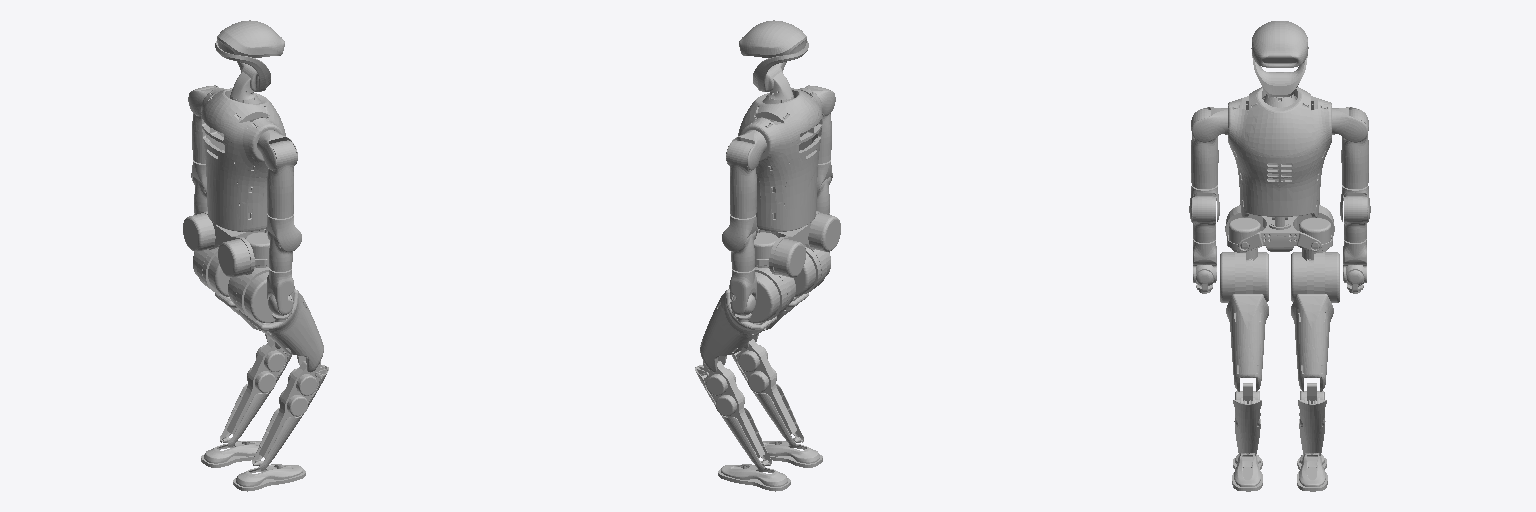
--- Render facts (derived) ---
3 views of the same robot in one strip: view 1: azimuth 30°, elevation 25°; view 2: azimuth 150°, elevation 25°; view 3: azimuth 270°, elevation 25° (orthographic).
Model l3-4_29dof_0612_neck_fixed with 52 links and 51 joints (29 revolute, 22 fixed), rooted at pelvis, posed all joints at 0.
Links seen in each view (by area): view 1: torso_base_link, right_hip_pitch_link, neck_pitch_link, right_knee_link, left_knee_link, base_link, right_shoulder_roll_link, right_ankle_roll_link, left_ankle_roll_link, right_elbow_yaw_link, right_arm_yaw_link, left_hip_yaw_link (+5 smaller); view 2: torso_base_link, left_hip_pitch_link, neck_pitch_link, left_knee_link, right_knee_link, base_link, left_shoulder_roll_link, left_ankle_roll_link, right_ankle_roll_link, left_elbow_yaw_link, left_arm_yaw_link, right_hip_yaw_link (+5 smaller); view 3: torso_base_link, right_hip_pitch_link, left_hip_pitch_link, neck_pitch_link, base_link, left_knee_link, right_knee_link, left_shoulder_roll_link, right_shoulder_roll_link, left_elbow_pitch_link, right_elbow_pitch_link, left_ankle_roll_link (+9 smaller).
Boxes of the visible links, x1,y1,x2,y2 form: torso_base_link: (201, 88, 285, 231); right_hip_pitch_link: (236, 267, 323, 372); neck_pitch_link: (215, 20, 284, 91); right_knee_link: (252, 361, 328, 470); left_knee_link: (220, 339, 291, 446); base_link: (183, 211, 265, 277); right_shoulder_roll_link: (267, 140, 296, 218); right_ankle_roll_link: (233, 464, 305, 491); left_ankle_roll_link: (201, 441, 260, 467); right_elbow_yaw_link: (267, 268, 294, 314); right_arm_yaw_link: (266, 214, 301, 251); left_hip_yaw_link: (202, 245, 229, 296); torso_base_link: (738, 88, 822, 231); left_hip_pitch_link: (700, 267, 787, 372); neck_pitch_link: (739, 20, 808, 91); left_knee_link: (695, 361, 771, 470); right_knee_link: (732, 339, 803, 446); base_link: (758, 211, 840, 277); left_shoulder_roll_link: (727, 140, 756, 218); left_ankle_roll_link: (718, 464, 790, 491); right_ankle_roll_link: (763, 441, 822, 467); left_elbow_yaw_link: (729, 268, 756, 314); left_arm_yaw_link: (722, 214, 757, 251); right_hip_yaw_link: (794, 245, 821, 296); torso_base_link: (1228, 87, 1331, 217); right_hip_pitch_link: (1220, 252, 1268, 391); left_hip_pitch_link: (1291, 252, 1339, 391); neck_pitch_link: (1251, 21, 1308, 96); base_link: (1225, 205, 1334, 251); left_knee_link: (1298, 383, 1326, 455); right_knee_link: (1233, 383, 1261, 455); left_shoulder_roll_link: (1341, 109, 1368, 188); right_shoulder_roll_link: (1191, 109, 1218, 188); left_elbow_pitch_link: (1344, 196, 1366, 242); right_elbow_pitch_link: (1193, 196, 1215, 242); left_ankle_roll_link: (1297, 453, 1327, 491).
Bounding box of the posed robot: 0.3903 × 0.59 × 1.61 m (x, y, z).
48 mesh visuals loaded from 49 distinct referenced files (48 binary STL); not drawn: 1 (reference not matched to a file when rendering).

URDF robot description (l3-4_29dof_0612_neck_fixed):
<?xml version="1.0" encoding="utf-8"?>

<!-- This URDF was automatically created by SolidWorks to URDF Exporter! Originally created by Stephen Brawner ([email redacted]) 
     Commit Version: 1.6.0-4-g7f85cfe  Build Version: 1.6.7995.38578
     For more information, please see http://wiki.ros.org/sw_urdf_exporter -->
<robot
  name="l3-4_29dof_0612_neck_fixed">
  <mujoco>
        <compiler 
        meshdir="meshes/" 
        balanceinertia="true" 
        discardvisual="false" />
  </mujoco>

  <!-- <link name="world"></link>
  <joint name="floating_base_joint" type="floating">
    <parent link="world"/>
    <child link="pelvis"/>
  </joint>  -->


 <link name="pelvis">
    <inertial>
      <origin xyz="0 0 0" rpy="0 0 0" />
      <mass value="0.01" />
      <inertia ixx="0.00001" ixy="-0.00001" ixz="-0.00001" iyy="0.00001" iyz="0.00001" izz="0.00001" />
    </inertial>
    <visual>
      <origin xyz="0 0 0" rpy="0 0 0" />
      <geometry>
        <box size="0.01 0.01 0.01"/>
      </geometry>
      <material name="">
        <color rgba="0.75294 0.75294 0.75294 1" />
      </material>
    </visual>

    <collision>
      <origin xyz="-0.105 0.115 -0.079" rpy="0 1.57 0"/>
      <geometry>
        <cylinder radius="0.06" length="0.05"/>
      </geometry>
    </collision>


    <collision>
      <origin xyz="-0.105 -0.115 -0.079" rpy="0 1.57 0"/>
      <geometry>
        <cylinder radius="0.06" length="0.05"/>
      </geometry>
    </collision>

    <!-- <collision>
      <origin
        xyz="0.05 0. -0.06"
        rpy="0 0 0"/>
      <geometry>
        <box size="0.02 0.14 0.04"/>
      </geometry>
    </collision> -->

    <collision>
      <origin
        xyz="0.07 0. -0.06"
        rpy="0 0 0"/>
      <!-- <geometry>
        <box size="0.02 0.20 0.04"/>
      </geometry> -->
      <geometry>
        <box size="0.01 0.26 0.04"/>
      </geometry>
    </collision>
  </link>

  <link
    name="base_link">
    <inertial>
      <origin
        xyz="-0.12443 4.6517E-05 -0.0072396"
        rpy="0 0 0" />
      <mass
        value="4.6837" />
      <inertia
        ixx="0.0662"
        ixy="0"
        ixz="-0.0006"
        iyy="0.0139"
        iyz="0"
        izz="0.071" />
    </inertial>
    <visual>
      <origin
        xyz="0 0 0"
        rpy="0 0 0" />
      <geometry>
        <mesh
          filename="meshes/base_link.STL" />
      </geometry>
      <material
        name="">
        <color
          rgba="0.75294 0.75294 0.75294 1" />
      </material>
    </visual>
    <!-- <collision>
      <origin
        xyz="0 0 0"
        rpy="0 0 0" />
      <geometry>
        <mesh
          filename="meshes/base_link.STL" />
      </geometry>
    </collision> -->
  </link>

  <joint name="pelvis_to_base_link" type="fixed">
    <origin xyz="0.04724 0 -0.0707" rpy="0 0 0" />
    <parent link="pelvis"/>
    <child link="base_link"/>
  </joint> 

 <!--left leg-->
  <link
    name="left_hip_roll_link">
    <inertial>
      <origin
        xyz="-0.00064601 2.7e-05 0.00565143"
        rpy="0 0 0" />
      <mass
        value="1.73" />
      <inertia
        ixx="0.0025037"
        ixy="0"
        ixz="0"
        iyy="0.00256083"
        iyz="0"
        izz="0.000029228131" />
    </inertial>
    <visual>
      <origin
        xyz="0 0 0"
        rpy="0 0 0" />
      <geometry>
        <mesh
          filename="meshes/left_hip_roll_link.STL" />
      </geometry>
      <material
        name="">
        <color
          rgba="0.75294 0.75294 0.75294 1" />
      </material>
    </visual>
    <collision>
      <origin
        xyz="0 0 0"
        rpy="0 0 0" />
      <geometry>
        <mesh
          filename="meshes/left_hip_roll_link.STL" />
      </geometry>
    </collision>
  </link>
  <joint
    name="left_hip_roll_joint"
    type="revolute">
    <origin
      xyz="-0.04724 0.115 -0.0083"
      rpy="0 0 0" />
    <parent
      link="base_link" />
    <child
      link="left_hip_roll_link" />
    <axis
      xyz="1 0 0" />
    <limit
      lower="-0.17"
      upper="1.21"
      effort="255"
      velocity="7.28" />
  </joint>
  <link
    name="left_hip_yaw_link">
    <inertial>
      <origin
        xyz="-0.000331 -0.037613 -0.139711"
        rpy="0 0 0" />
      <mass
        value="4.12" />
      <inertia
        ixx="0.01102885"
        ixy="-0.0001"
        ixz="-3.948E-07"
        iyy="0.01659953"
        iyz="-0.0007"
        izz="0.00922664" />
    </inertial>
    <visual>
      <origin
        xyz="0 0 0"
        rpy="0 0 0" />
      <geometry>
        <mesh
          filename="meshes/left_hip_yaw_link.STL" />
      </geometry>
      <material
        name="">
        <color
          rgba="0.75294 0.75294 0.75294 1" />
      </material>
    </visual>
    <!-- <collision>
      <origin
        xyz="0 0 0"
        rpy="0 0 0" />
      <geometry>
        <mesh
          filename="meshes/left_hip_yaw_link.STL" />
      </geometry>
    </collision> -->
    <collision>
      <origin xyz="0.0 0. -0.144" rpy="1.57 0 0"/>
      <geometry>
        <cylinder radius="0.09" length="0.16"/>
      </geometry>
    </collision>
  </link>
  <joint
    name="left_hip_yaw_joint"
    type="revolute">
    <origin
      xyz="0 0 0"
      rpy="0 0 0" />
    <parent
      link="left_hip_roll_link" />
    <child
      link="left_hip_yaw_link" />
    <axis
      xyz="0 0 1" />
    <limit
      lower="-0.52"
      upper="1.03"
      effort="100"
      velocity="13.26" />
  </joint>
  <link
    name="left_hip_pitch_link">
    <inertial>
      <origin
        xyz="0.00124255 0.03682619 -0.04354149"
        rpy="0 0 0" />
      <mass
        value="5.28" />
      <inertia
        ixx="0.06033474"
        ixy="0.0005"
        ixz="0.0032"
        iyy="0.06489403"
        iyz="-0.0083"
        izz="0.01283269" />
    </inertial>
    <visual>
      <origin
        xyz="0 0 0"
        rpy="0 0 0" />
      <geometry>
        <mesh
          filename="meshes/left_hip_pitch_link.STL" />
      </geometry>
      <material
        name="">
        <color
          rgba="0.75294 0.75294 0.75294 1" />
      </material>
    </visual>
    <!-- <collision>
      <origin
        xyz="0 0 0"
        rpy="0 0 0" />
      <geometry>
        <mesh
          filename="meshes/left_hip_pitch_link.STL" />
      </geometry>
    </collision> -->
    <collision>
      <origin
        xyz="0.02 0. -0.20"
        rpy="0 0 0"/>
      <geometry>
        <box size="0.1 0.06 0.15"/>
      </geometry>
    </collision>
  </link>
  <joint
    name="left_hip_pitch_joint"
    type="revolute">
    <origin
      xyz="0 0 -0.144"
      rpy="0 -0.5236 0" />
    <parent
      link="left_hip_yaw_link" />
    <child
      link="left_hip_pitch_link" />
    <axis
      xyz="0 1 0" />
    <!-- <limit
      lower="-1.48"
      upper="2.27"
      effort="350.0"
      velocity="24.94" /> -->
    <limit
      lower="-1.48"
      upper="2.25"
      effort="350.0"
      velocity="20.0" />


  </joint>
  <link
    name="left_knee_link">
    <inertial>
      <origin
        xyz="0.01253496 0.00011441 -0.11698312"
        rpy="0 0 0" />
      <mass
        value="2.41" />
      <inertia
        ixx="0.02084403"
        ixy="-3.7298E-08"
        ixz="-0.0015"
        iyy="0.0210412"
        iyz="-0.0003"
        izz="0.00243826" />
    </inertial>
    <visual>
      <origin
        xyz="0 0 0"
        rpy="0 0 0" />
      <geometry>
        <mesh
          filename="meshes/left_knee_link.STL" />
      </geometry>
      <material
        name="">
        <color
          rgba="0.75294 0.75294 0.75294 1" />
      </material>
    </visual>
    <collision>
      <origin
        xyz="0 0 0"
        rpy="0 0 0" />
      <geometry>
        <mesh
          filename="meshes/left_knee_link.STL" />
      </geometry>
    </collision>
  </link>
  <joint
    name="left_knee_joint"
    type="revolute">
    <origin
      xyz="0 -0.01 -0.36"
      rpy="0 1.0472 0" />
    <parent
      link="left_hip_pitch_link" />
    <child
      link="left_knee_link" />
    <axis
      xyz="0 1 0" />
    <!-- <limit
      lower="-1.05"
      upper="1.05"
      effort="350.0"
      velocity="24.94" /> -->
    <limit
      lower="-1.0"
      upper="1.05"
      effort="350.0"
      velocity="20.0" />
  </joint>
  <link
    name="left_ankle_pitch_link">
    <inertial>
      <origin
        xyz="-0.00156278 0.0 4.876e-05"
        rpy="0 0 0" />
      <mass
        value="0.08" />
      <inertia
        ixx="6.4137e-06"
        ixy="6.4247E-12"
        ixz="5.1426E-09"
        iyy="5.5064e-06"
        iyz="8.537E-13"
        izz="4.8112e-06" />
    </inertial>
    <visual>
      <origin
        xyz="0 0 0"
        rpy="0 0 0" />
      <geometry>
        <mesh
          filename="meshes/left_ankle_pitch_link.STL" />
      </geometry>
      <material
        name="">
        <color
          rgba="0.75294 0.75294 0.75294 1" />
      </material>
    </visual>
    <!-- <collision>
      <origin
        xyz="0 0 0"
        rpy="0 0 0" />
      <geometry>
        <mesh
          filename="meshes/left_ankle_pitch_link.STL" />
      </geometry>
    </collision> -->
  </link>
  <joint
    name="left_ankle_pitch_joint"
    type="revolute">
    <origin
      xyz="0 0 -0.36"
      rpy="0 -0.5236 0" />
    <parent
      link="left_knee_link" />
    <child
      link="left_ankle_pitch_link" />
    <axis
      xyz="0 1 0" />
    <limit
      lower="-0.66"
      upper="1.22"
      effort="50.0"
      velocity="13.65" />
  </joint>
  <link
    name="left_ankle_roll_link">
    <inertial>
      <origin
        xyz="0.025775 0.0 -0.0447431"
        rpy="0 0 0" />
      <mass
        value="0.6" />
      <inertia
        ixx="0.00422483"
        ixy="7.2942E-08"
        ixz="0.0002"
        iyy="0.004"
        iyz="3.08E-09"
        izz="0.000575171" />
    </inertial>
    <visual>
      <origin
        xyz="0 0 0"
        rpy="0 0 0" />
      <geometry>
        <mesh
          filename="meshes/left_ankle_roll_link.STL" />
      </geometry>
      <material
        name="">
        <color
          rgba="0.75294 0.75294 0.75294 1" />
      </material>
    </visual>
    <!-- <collision>
      <origin
        xyz="0 0 0"
        rpy="0 0 0" />
      <geometry>
        <mesh
          filename="meshes/left_ankle_roll_link.STL" />
      </geometry>
    </collision> -->
    <collision>
      <origin xyz="-0.06 0.035 -0.064" rpy="0 0 0"/>
      <geometry>
        <sphere radius="0.005"/>
      </geometry>
    </collision>
    <collision>
      <origin xyz="-0.06 -0.035 -0.064" rpy="0 0 0"/>
      <geometry>
        <sphere radius="0.005"/>
      </geometry>
    </collision>
    <collision>
      <origin xyz="0.13 0.040 -0.064" rpy="0 0 0"/>
      <geometry>
        <sphere radius="0.005"/>
      </geometry>
    </collision>
    <collision>
      <origin xyz="0.13 -0.040 -0.064" rpy="0 0 0"/>
      <geometry>
        <sphere radius="0.005"/>
      </geometry>
    </collision>
  </link>
  <joint
    name="left_ankle_roll_joint"
    type="revolute">
    <origin
      xyz="0 0 0"
      rpy="0 0 0" />
    <parent
      link="left_ankle_pitch_link" />
    <child
      link="left_ankle_roll_link" />
    <axis
      xyz="1 0 0" />
    <limit
      lower="-0.31"
      upper="0.31"
      effort="50.0"
      velocity="13.65" />
  </joint>
  <link
    name="left_foot_ee_link">
    <inertial>
      <origin
        xyz="-2.6368E-16 0 0.0025"
        rpy="0 0 0" />
      <mass
        value="1.375E-08" />
      <inertia
        ixx="5.7292E-14"
        ixy="-4.5517E-30"
        ixz="-4.4864E-28"
        iyy="5.7292E-14"
        iyz="-3.7706E-29"
        izz="5.7292E-14" />
    </inertial>
    <visual>
      <origin
        xyz="0 0 0"
        rpy="0 0 0" />
      <geometry>
        <mesh
          filename="meshes/left_foot_ee_link.STL" />
      </geometry>
      <material
        name="">
        <color
          rgba="1 0.54902 0 1" />
      </material>
    </visual>
    <!-- <collision>
      <origin
        xyz="0 0 0"
        rpy="0 0 0" />
      <geometry>
        <mesh
          filename="meshes/left_foot_ee_link.STL" />
      </geometry>
    </collision> -->
  </link>
  <joint
    name="left_foot_ee_joint"
    type="fixed">
    <origin
      xyz="0 0 -0.0679999999999948"
      rpy="0 0 0" />
    <parent
      link="left_ankle_roll_link" />
    <child
      link="left_foot_ee_link" />
    <axis
      xyz="0 0 1" />
    <limit
      lower="0"
      upper="0"
      effort="0"
      velocity="0" />
  </joint>


<!--right leg-->
  <link
    name="right_hip_roll_link">
    <inertial>
      <origin
        xyz="-0.00164028 8.729e-05 0.00500482"
        rpy="0 0 0" />
      <mass
        value="1.73" />
      <inertia
        ixx="0.00310048"
        ixy="0"
        ixz="0"
        iyy="0.0024"
        iyz="0"
        izz="0.00229952" />
    </inertial>
    <visual>
      <origin
        xyz="0 0 0"
        rpy="0 0 0" />
      <geometry>
        <mesh
          filename="meshes/right_hip_roll_link.STL" />
      </geometry>
      <material
        name="">
        <color
          rgba="0.75294 0.75294 0.75294 1" />
      </material>
    </visual>
    <collision>
      <origin
        xyz="0 0 0"
        rpy="0 0 0" />
      <geometry>
        <mesh
          filename="meshes/right_hip_roll_link.STL" />
      </geometry>
    </collision>
  </link>
  <joint
    name="right_hip_roll_joint"
    type="revolute">
    <origin
      xyz="-0.04724 -0.115 -0.0083"
      rpy="0 0 0" />
    <parent
      link="base_link" />
    <child
      link="right_hip_roll_link" />
    <axis
      xyz="1 0 0" />
    <limit
      lower="-1.21"
      upper="0.17"
      effort="255"
      velocity="7.28" />
  </joint>
  <link
    name="right_hip_yaw_link">
    <inertial>
      <origin
        xyz="0.00033106 0.0376129 -0.139711"
        rpy="0 0 0" />
      <mass
        value="4.12" />
      <inertia
        ixx="0.0163666"
        ixy="-0.0001"
        ixz="3.948E-07"
        iyy="0.0107982"
        iyz="0.0007"
        izz="0.00873522" />
    </inertial>
    <visual>
      <origin
        xyz="0 0 0"
        rpy="0 0 0" />
      <geometry>
        <mesh
          filename="meshes/right_hip_yaw_link.STL" />
      </geometry>
      <material
        name="">
        <color
          rgba="0.75294 0.75294 0.75294 1" />
      </material>
    </visual>
    <!-- <collision>
      <origin
        xyz="0 0 0"
        rpy="0 0 0" />
      <geometry>
        <mesh
          filename="meshes/right_hip_yaw_link.STL" />
      </geometry>
    </collision> -->
    <collision>
      <origin xyz="0.0 0. -0.144" rpy="1.57 0 0"/>
      <geometry>
        <cylinder radius="0.09" length="0.16"/>
      </geometry>
    </collision>
  </link>
  <joint
    name="right_hip_yaw_joint"
    type="revolute">
    <origin
      xyz="0 0 0"
      rpy="0 0 0" />
    <parent
      link="right_hip_roll_link" />
    <child
      link="right_hip_yaw_link" />
    <axis
      xyz="0 0 1" />
    <limit
      lower="-1.03"
      upper="0.52"
      effort="100"
      velocity="13.26" />
  </joint>
  <link
    name="right_hip_pitch_link">
    <inertial>
      <origin
        xyz="0.00124255 -0.03682619 -0.04354149"
        rpy="0 0 0" />
      <mass
        value="5.28" />
      <inertia
        ixx="0.06033474"
        ixy="-0.0006"
        ixz="0.0041"
        iyy="0.06489403"
        iyz="0.0081"
        izz="0.01283269" />
    </inertial>
    <visual>
      <origin
        xyz="0 0 0"
        rpy="0 0 0" />
      <geometry>
        <mesh
          filename="meshes/right_hip_pitch_link.STL" />
      </geometry>
      <material
        name="">
        <color
          rgba="0.75294 0.75294 0.75294 1" />
      </material>
    </visual>
    <!-- <collision>
      <origin
        xyz="0 0 0"
        rpy="0 0 0" />
      <geometry>
        <mesh
          filename="meshes/right_hip_pitch_link.STL" />
      </geometry>
    </collision> -->

    <collision>
      <origin
        xyz="0.02 0. -0.20"
        rpy="0 0 0"/>
      <geometry>
        <box size="0.1 0.06 0.15"/>
      </geometry>
    </collision>


  </link>
  <joint
    name="right_hip_pitch_joint"
    type="revolute">
    <origin
      xyz="0 0 -0.144"
      rpy="0 -0.5236 0" />
    <parent
      link="right_hip_yaw_link" />
    <child
      link="right_hip_pitch_link" />
    <axis
      xyz="0 1 0" />
    <!-- <limit
      lower="-1.48"
      upper="2.27"
      effort="350.0"
      velocity="24.94" /> -->
    <limit
      lower="-1.48"
      upper="2.25"
      effort="350.0"
      velocity="20.0" />
  </joint>
  <link
    name="right_knee_link">
    <inertial>
      <origin
        xyz="0.01253496 -0.00011441 -0.11698312"
        rpy="0 0 0" />
      <mass
        value="2.41" />
      <inertia
        ixx="0.02084403"
        ixy="0"
        ixz="-0.0015"
        iyy="0.0210412"
        iyz="0.0003"
        izz="0.00243826" />
    </inertial>
    <visual>
      <origin
        xyz="0 0 0"
        rpy="0 0 0" />
      <geometry>
        <mesh
          filename="meshes/right_knee_link.STL" />
      </geometry>
      <material
        name="">
        <color
          rgba="0.75294 0.75294 0.75294 1" />
      </material>
    </visual>
    <collision>
      <origin
        xyz="0 0 0"
        rpy="0 0 0" />
      <geometry>
        <mesh
          filename="meshes/right_knee_link.STL" />
      </geometry>
    </collision>
  </link>
  <joint
    name="right_knee_joint"
    type="revolute">
    <origin
      xyz="0 0.01 -0.36"
      rpy="0 1.0472 0" />
    <parent
      link="right_hip_pitch_link" />
    <child
      link="right_knee_link" />
    <axis
      xyz="0 1 0" />
    <!-- <limit
      lower="-1.05"
      upper="1.05"
      effort="350"
      velocity="24.94" /> -->
    <limit
      lower="-1.0"
      upper="1.05"
      effort="350"
      velocity="20.0" />
  </joint>
  <link
    name="right_ankle_pitch_link">
    <inertial>
      <origin
        xyz="-0.00156278 0.0 4.876e-05"
        rpy="0 0 0" />
      <mass
        value="0.08" />
      <inertia
        ixx="6.4137e-06"
        ixy="6.4247E-12"
        ixz="5.1426E-09"
        iyy="5.5064e-06"
        iyz="8.537E-13"
        izz="4.8112e-06" />
    </inertial>
    <visual>
      <origin
        xyz="0 0 0"
        rpy="0 0 0" />
      <geometry>
        <mesh
          filename="meshes/right_ankle_pitch_link.STL" />
      </geometry>
      <material
        name="">
        <color
          rgba="0.75294 0.75294 0.75294 1" />
      </material>
    </visual>
    <!-- <collision>
      <origin
        xyz="0 0 0"
        rpy="0 0 0" />
      <geometry>
        <mesh
          filename="meshes/right_ankle_pitch_link.STL" />
      </geometry>
    </collision> -->
  </link>
  <joint
    name="right_ankle_pitch_joint"
    type="revolute">
    <origin
      xyz="0 0 -0.36"
      rpy="0 -0.5236 0" />
    <parent
      link="right_knee_link" />
    <child
      link="right_ankle_pitch_link" />
    <axis
      xyz="0 1 0" />
    <limit
      lower="-0.66"
      upper="1.22"
      effort="50.0"
      velocity="13.65" />
  </joint>
  <link
    name="right_ankle_roll_link">
    <inertial>
      <origin
        xyz="0.025775 0.0 -0.0447431"
        rpy="0 0 0" />
      <mass
        value="0.6" />
      <inertia
        ixx="0.00422483"
        ixy="7.3006E-08"
        ixz="-3.7284E-05"
        iyy="0.004"
        iyz="3.0727E-09"
        izz="0.000575171" />
    </inertial>
    <visual>
      <origin
        xyz="0 0 0"
        rpy="0 0 0" />
      <geometry>
        <mesh
          filename="meshes/right_ankle_roll_link.STL" />
      </geometry>
      <material
        name="">
        <color
          rgba="0.75294 0.75294 0.75294 1" />
      </material>
    </visual>
    <!-- <collision>
      <origin
        xyz="0 0 0"
        rpy="0 0 0" />
      <geometry>
        <mesh
          filename="meshes/right_ankle_roll_link.STL" />
      </geometry>
    </collision> -->
    <collision>
      <origin xyz="-0.06 0.035 -0.064" rpy="0 0 0"/>
      <geometry>
        <sphere radius="0.005"/>
      </geometry>
    </collision>
    <collision>
      <origin xyz="-0.06 -0.035 -0.064" rpy="0 0 0"/>
      <geometry>
        <sphere radius="0.005"/>
      </geometry>
    </collision>
    <collision>
      <origin xyz="0.13 0.040 -0.064" rpy="0 0 0"/>
      <geometry>
        <sphere radius="0.005"/>
      </geometry>
    </collision>
    <collision>
      <origin xyz="0.13 -0.040 -0.064" rpy="0 0 0"/>
      <geometry>
        <sphere radius="0.005"/>
      </geometry>
    </collision> 
  </link>
  <joint
    name="right_ankle_roll_joint"
    type="revolute">
    <origin
      xyz="0 0 0"
      rpy="0 0 0" />
    <parent
      link="right_ankle_pitch_link" />
    <child
      link="right_ankle_roll_link" />
    <axis
      xyz="1 0 0" />
    <limit
      lower="-0.31"
      upper="0.31"
      effort="50.0"
      velocity="13.65" />
  </joint>
  <link
    name="right_foot_ee_link">
    <inertial>
      <origin
        xyz="-2.7756E-16 0 0.0025"
        rpy="0 0 0" />
      <mass
        value="1.375E-08" />
      <inertia
        ixx="5.7292E-14"
        ixy="-4.4099E-31"
        ixz="-4.4858E-28"
        iyy="5.7292E-14"
        iyz="-2.8029E-29"
        izz="5.7292E-14" />
    </inertial>
    <visual>
      <origin
        xyz="0 0 0"
        rpy="0 0 0" />
      <geometry>
        <mesh
          filename="meshes/right_foot_ee_link.STL" />
      </geometry>
      <material
        name="">
        <color
          rgba="1 0.54902 0 1" />
      </material>
    </visual>
    <!-- <collision>
      <origin
        xyz="0 0 0"
        rpy="0 0 0" />
      <geometry>
        <mesh
          filename="meshes/right_foot_ee_link.STL" />
      </geometry>
    </collision> -->
  </link>
  <joint
    name="right_foot_ee_joint"
    type="fixed">
    <origin
      xyz="0 0 -0.068"
      rpy="0 0 0" />
    <parent
      link="right_ankle_roll_link" />
    <child
      link="right_foot_ee_link" />
    <axis
      xyz="0 0 0" />
  </joint>

<!--   waist part    -->
  <link
    name="waist_flange_link">
    <inertial>
      <origin
        xyz="0 -3.4487E-18 0.0025"
        rpy="0 0 0" />
      <mass
        value="1.375E-08" />
      <inertia
        ixx="5.7292E-14"
        ixy="2.6168E-30"
        ixz="-3.9998E-31"
        iyy="5.7292E-14"
        iyz="-1.2292E-30"
        izz="5.7292E-14" />
    </inertial>
    <visual>
      <origin
        xyz="0 0 0"
        rpy="0 0 0" />
      <geometry>
        <mesh
          filename="meshes/waist_flange_link.STL" />
      </geometry>
      <material
        name="">
        <color
          rgba="1 0.54902 0 1" />
      </material>
    </visual>
    <!-- <collision>
      <origin
        xyz="0 0 0"
        rpy="0 0 0" />
      <geometry>
        <mesh
          filename="meshes/waist_flange_link.STL" />
      </geometry>
    </collision> -->
  </link>
  <joint
    name="waist_flange_joint"
    type="fixed">
    <origin
      xyz="-0.04724 0 0.0367"
      rpy="0 0 0" />
    <parent
      link="base_link" />
    <child
      link="waist_flange_link" />
    <axis
      xyz="0 0 0" />
  </joint>

  <joint
    name="waist_base_joint"
    type="fixed">
    <origin
      xyz="0 0 0"
      rpy="0 0 0" />
    <parent
      link="waist_flange_link" />
    <child
      link="waist_base_link" />
    <axis
      xyz="0 0 1" />
    <limit
      lower="0"
      upper="0"
      effort="0"
      velocity="0" />
  </joint>
<link
    name="waist_base_link">
    <inertial>
      <origin
        xyz="-0.00090253 -3.8886E-05 -0.022326"
        rpy="0 0 0" />
      <mass
        value="1.0597" />
      <inertia
        ixx="0.0011"
        ixy="7.3313E-07"
        ixz="6.9671E-07"
        iyy="0.0011"
        iyz="1.5872E-06"
        izz="0.0013" />
    </inertial>
    <visual>
      <origin
        xyz="0 0 0"
        rpy="0 0 0" />
      <geometry>
        <mesh
          filename="meshes/waist_base_link.STL" />
      </geometry>
      <material
        name="">
        <color
          rgba="0.75294 0.75294 0.75294 1" />
      </material>
    </visual>
    <!-- <collision>
      <origin
        xyz="0 0 0"
        rpy="0 0 0" />
      <geometry>
        <mesh
          filename="meshes/waist_base_link.STL" />
      </geometry>
    </collision> -->
  </link>
  <link
    name="waist_yaw_link">
    <inertial>
      <origin
        xyz="0.0090574 2.5517E-09 -0.018735"
        rpy="0 0 0" />
      <mass
        value="0.20427" />
      <inertia
        ixx="0.0001"
        ixy="9.2093E-11"
        ixz="5.1666E-07"
        iyy="0.0001"
        iyz="-7.1818E-11"
        izz="0.0001" />
    </inertial>
    <visual>
      <origin
        xyz="0 0 0"
        rpy="0 0 0" />
      <geometry>
        <mesh
          filename="meshes/waist_yaw_link.STL" />
      </geometry>
      <material
        name="">
        <color
          rgba="0.75294 0.75294 0.75294 1" />
      </material>
    </visual>
    <!-- <collision>
      <origin
        xyz="0 0 0"
        rpy="0 0 0" />
      <geometry>
        <mesh
          filename="meshes/waist_yaw_link.STL" />
      </geometry>
    </collision> -->
  </link>
  <joint
    name="waist_yaw_joint"
    type="revolute">
    <origin
      xyz="0 0 0.034"
      rpy="0 0 0" />
    <parent
      link="waist_base_link" />
    <child
      link="waist_yaw_link" />
    <axis
      xyz="0 0 1" />
    <limit
      lower="-1.57"
      upper="1.57"
      effort="110"
      velocity="4.19" />
  </joint>
  <link
    name="waist_roll_link">
    <inertial>
      <origin
        xyz="-3.1889E-09 -3.1609E-09 -4.8745E-05"
        rpy="0 0 0" />
      <mass
        value="0.083945" />
      <inertia
        ixx="6.4218E-06"
        ixy="7.6098E-14"
        ixz="-1.8377E-12"
        iyy="6.968E-06"
        iyz="7.7458E-13"
        izz="1.1249E-05" />
    </inertial>
    <visual>
      <origin
        xyz="0 0 0"
        rpy="0 0 0" />
      <geometry>
        <mesh
          filename="meshes/waist_roll_link.STL" />
      </geometry>
      <material
        name="">
        <color
          rgba="0.75294 0.75294 0.75294 1" />
      </material>
    </visual>
    <!-- <collision>
      <origin
        xyz="0 0 0"
        rpy="0 0 0" />
      <geometry>
        <mesh
          filename="meshes/waist_roll_link.STL" />
      </geometry>
    </collision> -->
  </link>
  <joint
    name="waist_roll_joint"
    type="revolute">
    <origin
      xyz="0 0 0"
      rpy="0 0 0" />
    <parent
      link="waist_yaw_link" />
    <child
      link="waist_roll_link" />
    <axis
      xyz="1 0 0" />
    <limit
      lower="-0.26"
      upper="0.26"
      effort="110"
      velocity="4.19" />
  </joint>


 <link name="torso_link">
    <inertial>
      <origin xyz="0 0 0" rpy="0 0 0" />
      <mass value="0.01" />
      <inertia ixx="0.00001" ixy="-0.00001" ixz="-0.00001" iyy="0.00001" iyz="0.00001" izz="0.00001" />
    </inertial>
    <visual>
      <origin xyz="0 0 0" rpy="0 0 0" />
      <geometry>
        <box size="0.01 0.01 0.01"/>
      </geometry>
      <material name="">
        <color rgba="0.75294 0.75294 0.75294 1" />
      </material>
    </visual>
    <!-- <collision>
      <origin
        xyz="0.0 0. 0.215"
        rpy="0 0 0" />
      <geometry>
        <box size="0.2 0.26 0.34"/>
      </geometry>
    </collision> -->
  </link>

  <joint
    name="waist_pitch_joint"
    type="revolute">
    <origin
      xyz="0 0 0"
      rpy="0 0 0" />
    <parent
      link="waist_roll_link" />
    <child
      link="torso_link" />
    <axis
      xyz="0 1 0" />
    <limit
      lower="-0.09"
      upper="1.22"
      effort="110"
      velocity="4.19" />
  </joint>

  <link
    name="waist_pitch_link">
    <inertial>
      <origin
        xyz="-0.0006119 7.6707E-09 0.049479"
        rpy="0 0 0" />
      <mass
        value="2.42" />
      <inertia
        ixx="0.0094"
        ixy="-2.2462E-06"
        ixz="0.0001"
        iyy="0.0023"
        iyz="-1.2998E-06"
        izz="0.0094" />
    </inertial>
    <visual>
      <origin
        xyz="0 0 0"
        rpy="0 0 0" />
      <geometry>
        <mesh
          filename="meshes/waist_pitch_link.STL" />
      </geometry>
      <material
        name="">
        <color
          rgba="0.75294 0.75294 0.75294 1" />
      </material>
    </visual>
    <!-- <collision>
      <origin
        xyz="0 0 0"
        rpy="0 0 0" />
      <geometry>
        <mesh
          filename="meshes/waist_pitch_link.STL" />
      </geometry>
    </collision> -->
  </link>

  <joint
    name="torso_fixed_joint"
    type="fixed">
    <origin
      xyz="0 0 0.0"
      rpy="0 0 0" />
    <parent
      link="torso_link" />
    <child
      link="waist_pitch_link" />
    <axis
      xyz="0 0 0" />
  </joint>



  <link
    name="torso_flange_link">
    <inertial>
      <origin
        xyz="1.687E-05 -3.5059E-18 0.0025"
        rpy="0 0 0" />
      <mass
        value="1.375E-08" />
      <inertia
        ixx="5.7292E-14"
        ixy="-3.9075E-30"
        ixz="5.6717E-30"
        iyy="5.7292E-14"
        iyz="7.282E-30"
        izz="5.7292E-14" />
    </inertial>
    <visual>
      <origin
        xyz="0 0 0"
        rpy="0 0 0" />
      <geometry>
        <mesh
          filename="meshes/torso_flange_link.STL" />
      </geometry>
      <material
        name="">
        <color
          rgba="1 0.54902 0 1" />
      </material>
    </visual>
    <!-- <collision>
      <origin
        xyz="0 0 0"
        rpy="0 0 0" />
      <geometry>
        <mesh
          filename="meshes/torso_flange_link.STL" />
      </geometry>
    </collision> -->
  </link>
  <joint
    name="torso_flange_joint"
    type="fixed">
    <origin
      xyz="0 0 0.095"
      rpy="0 0 0" />
    <parent
      link="waist_pitch_link" />
    <child
      link="torso_flange_link" />
    <axis
      xyz="0 0 0" />
  </joint>

<!--   torso part    --> 

  <joint
    name="torso_base_joint"
    type="fixed">
    <origin
      xyz="0 0 0"
      rpy="0 0 0" />
    <parent
      link="torso_flange_link" />
    <child
      link="torso_base_link" />
    <axis
      xyz="0 0 1" />
    <limit
      lower="0"
      upper="0"
      effort="0"
      velocity="0" />
  </joint>
  <link
    name="torso_base_link">
    <inertial>
      <origin
        xyz="-0.0081721 -0.00032449 0.13822"
        rpy="0 0 0" />
      <mass
        value="10.42" />
      <inertia
        ixx="0.1209"
        ixy="-0.0001"
        ixz="0.0102"
        iyy="0.1048"
        iyz="0.0004"
        izz="0.0665" />
    </inertial>
    <visual>
      <origin
        xyz="0 0 0"
        rpy="0 0 0" />
      <geometry>
        <mesh
          filename="meshes/torso_base_link.STL" />
      </geometry>
      <material
        name="">
        <color
          rgba="0.75294 0.75294 0.75294 1" />
      </material>
    </visual>
    <collision>
      <origin
        xyz="0 0 0"
        rpy="0 0 0" />
      <geometry>
        <mesh
          filename="meshes/torso_base_link.STL" />
      </geometry>
    </collision>
  </link>
  <link
    name="neck_flange_link">
    <inertial>
      <origin
        xyz="-8.6736E-19 -3.5017E-18 0.0025"
        rpy="0 0 0" />
      <mass
        value="1.375E-08" />
      <inertia
        ixx="5.7292E-14"
        ixy="-2.8571E-30"
        ixz="5.6547E-30"
        iyy="5.7292E-14"
        iyz="-5.801E-31"
        izz="5.7292E-14" />
    </inertial>
    <visual>
      <origin
        xyz="0 0 0"
        rpy="0 0 0" />
      <geometry>
        <mesh
          filename="meshes/neck_flange_link.STL" />
      </geometry>
      <material
        name="">
        <color
          rgba="1 0.54902 0 1" />
      </material>
    </visual>
    <!-- <collision>
      <origin
        xyz="0 0 0"
        rpy="0 0 0" />
      <geometry>
        <mesh
          filename="meshes/neck_flange_link.STL" />
      </geometry>
    </collision> -->
  </link>
  <joint
    name="neck_flange_joint"
    type="fixed">
    <origin
      xyz="0 0 0.303"
      rpy="0 0 0" />
    <parent
      link="torso_base_link" />
    <child
      link="neck_flange_link" />
    <axis
      xyz="0 0 0" />
  </joint>
  <link
    name="left_arm_flange_link">
    <inertial>
      <origin
        xyz="-5.152E-18 -2.7756E-17 0.0025"
        rpy="0 0 0" />
      <mass
        value="1.375E-08" />
      <inertia
        ixx="5.7292E-14"
        ixy="3.113E-30"
        ixz="-7.9572E-30"
        iyy="5.7292E-14"
        iyz="-4.7132E-29"
        izz="5.7292E-14" />
    </inertial>
    <visual>
      <origin
        xyz="0 0 0"
        rpy="0 0 0" />
      <geometry>
        <mesh
          filename="meshes/left_arm_flange_link.STL" />
      </geometry>
      <material
        name="">
        <color
          rgba="1 0.54902 0 1" />
      </material>
    </visual>
    <!-- <collision>
      <origin
        xyz="0 0 0"
        rpy="0 0 0" />
      <geometry>
        <mesh
          filename="meshes/left_arm_flange_link.STL" />
      </geometry>
    </collision> -->
  </link>
  <joint
    name="left_arm_flange_joint"
    type="fixed">
    <origin
      xyz="0 0.112 0.243"
      rpy="0 0 0" />
    <parent
      link="torso_base_link" />
    <child
      link="left_arm_flange_link" />
    <axis
      xyz="0 0 0" />
  </joint>
  <link
    name="right_arm_flange_link">
    <inertial>
      <origin
        xyz="-1.847E-18 -1.3878E-17 0.0025"
        rpy="0 0 0" />
      <mass
        value="1.375E-08" />
      <inertia
        ixx="5.7292E-14"
        ixy="-1.6617E-30"
        ixz="-4.4962E-30"
        iyy="5.7292E-14"
        iyz="-2.525E-30"
        izz="5.7292E-14" />
    </inertial>
    <visual>
      <origin
        xyz="0 0 0"
        rpy="0 0 0" />
      <geometry>
        <mesh
          filename="meshes/right_arm_flange_link.STL" />
      </geometry>
      <material
        name="">
        <color
          rgba="1 0.54902 0 1" />
      </material>
    </visual>
    <!-- <collision>
      <origin
        xyz="0 0 0"
        rpy="0 0 0" />
      <geometry>
        <mesh
          filename="meshes/right_arm_flange_link.STL" />
      </geometry>
    </collision> -->
  </link>
  <joint
    name="right_arm_flange_joint"
    type="fixed">
    <origin
      xyz="0 -0.112 0.243"
      rpy="0 0 0" />
    <parent
      link="torso_base_link" />
    <child
      link="right_arm_flange_link" />
    <axis
      xyz="0 0 0" />
  </joint>

  <!-- IMU -->
  <link name="chest_in_torso"></link>
  <joint name="chest_in_torso_joint" type="fixed">
    <origin xyz="-0.03959 -0.00224 0.14792" rpy="0 0 0"/>
    <parent link="torso_base_link"/>
    <child link="chest_in_torso"/>
  </joint>

  <!--   left_arm part    -->
  <joint
    name="left_arm_base_joint"
    type="fixed">
    <origin
      xyz="0 0 0"
      rpy="0 0 0" />
    <parent
      link="left_arm_flange_link" />
    <child
      link="left_arm_base_link" />
    <axis
      xyz="0 0 1" />
    <limit
      lower="0"
      upper="0"
      effort="0"
      velocity="0" />
  </joint>
   <link
    name="left_arm_base_link">
    <inertial>
      <origin
        xyz="4.1581E-05 0.023631 3.5535E-05"
        rpy="0 0 0" />
      <mass
        value="0.99112" />
      <inertia
        ixx="0.000802"
        ixy="1E-06"
        ixz="-1E-06"
        iyy="0.000861"
        iyz="-3E-06"
        izz="0.000807" />
    </inertial>
    <visual>
      <origin
        xyz="0 0 0"
        rpy="0 0 0" />
      <geometry>
        <mesh
          filename="meshes/left_arm_base_link.STL" />
      </geometry>
      <material
        name="">
        <color
          rgba="0.75294 0.75294 0.75294 1" />
      </material>
    </visual>
    <!-- <collision>
      <origin
        xyz="0 0 0"
        rpy="0 0 0" />
      <geometry>
        <mesh
          filename="meshes/left_arm_base_link.STL" />
      </geometry>
    </collision> -->
  </link>
  <link
    name="left_shoulder_pitch_link">
    <inertial>
      <origin
        xyz="0.00013365 0.10261 -0.0035426"
        rpy="0 0 0" />
      <mass
        value="0.46431" />
      <inertia
        ixx="0.000868"
        ixy="7.2517E-07"
        ixz="-7.5289E-07"
        iyy="0.000868"
        iyz="0.000137"
        izz="0.001185" />
    </inertial>
    <visual>
      <origin
        xyz="0 0 0"
        rpy="0 0 0" />
      <geometry>
        <mesh
          filename="meshes/left_shoulder_pitch_link.STL" />
      </geometry>
      <material
        name="">
        <color
          rgba="0.75294 0.75294 0.75294 1" />
      </material>
    </visual>
    <collision>
      <origin
        xyz="0 0 0"
        rpy="0 0 0" />
      <geometry>
        <mesh
          filename="meshes/left_shoulder_pitch_link.STL" />
      </geometry>
    </collision>
  </link>
  <joint
    name="left_shoulder_pitch_joint"
    type="revolute">
    <origin
      xyz="0 0 0"
      rpy="0 0 0" />
    <parent
      link="left_arm_base_link" />
    <child
      link="left_shoulder_pitch_link" />
    <axis
      xyz="0 1 0" />
    <limit
      lower="-2.79"
      upper="2.79"
      effort="95"
      velocity="4.19" />
  </joint>
  <link
    name="left_shoulder_roll_link">
    <inertial>
      <origin
        xyz="-0.0032462 4.0571E-06 -0.091652"
        rpy="0 0 0" />
      <mass
        value="2.1944" />
      <inertia
        ixx="0.019872"
        ixy="-7.0549E-07"
        ixz="0.000639"
        iyy="0.019903"
        iyz="7E-06"
        izz="0.00221" />
    </inertial>
    <visual>
      <origin
        xyz="0 0 0"
        rpy="0 0 0" />
      <geometry>
        <mesh
          filename="meshes/left_shoulder_roll_link.STL" />
      </geometry>
      <material
        name="">
        <color
          rgba="0.75294 0.75294 0.75294 1" />
      </material>
    </visual>
    <!-- <collision>
      <origin
        xyz="0 0 0"
        rpy="0 0 0" />
      <geometry>
        <mesh
          filename="meshes/left_shoulder_roll_link.STL" />
      </geometry>
    </collision> -->
    <collision>
      <origin xyz="0.0 0.0 -0.13" rpy="0 0 0"/>
      <geometry>
        <cylinder radius="0.045" length="0.13"/>
      </geometry>
    </collision>

  </link>
  <joint
    name="left_shoulder_roll_joint"
    type="revolute">
    <origin
      xyz="0 0.133 -0.016"
      rpy="0 0 0" />
    <parent
      link="left_shoulder_pitch_link" />
    <child
      link="left_shoulder_roll_link" />
    <axis
      xyz="1 0 0" />
    <limit
      lower="-0.56"
      upper="2.53"
      effort="95"
      velocity="4.19" />
  </joint>
  <link
    name="left_arm_yaw_link">
    <inertial>
      <origin
        xyz="0.003519 0.00031494 -0.26353"
        rpy="0 0 0" />
      <mass
        value="0.46223" />
      <inertia
        ixx="0.00118"
        ixy="-1E-06"
        ixz="0.000136"
        iyy="0.000868"
        iyz="-7.2691E-07"
        izz="0.000873" />
    </inertial>
    <visual>
      <origin
        xyz="0 0 0"
        rpy="0 0 0" />
      <geometry>
        <mesh
          filename="meshes/left_arm_yaw_link.STL" />
      </geometry>
      <material
        name="">
        <color
          rgba="0.75294 0.75294 0.75294 1" />
      </material>
    </visual>
    <!-- <collision>
      <origin
        xyz="0 0 0"
        rpy="0 0 0" />
      <geometry>
        <mesh
          filename="meshes/left_arm_yaw_link.STL" />
      </geometry>
    </collision> -->
  </link>
  <joint
    name="left_arm_yaw_joint"
    type="revolute">
    <origin
      xyz="0 0 0"
      rpy="0 0 0" />
    <parent
      link="left_shoulder_roll_link" />
    <child
      link="left_arm_yaw_link" />
    <axis
      xyz="0 0 1" />
    <limit
      lower="-4.36"
      upper="1.22"
      effort="95"
      velocity="4.19" />
  </joint>
  <link
    name="left_elbow_pitch_link">
    <inertial>
      <origin
        xyz="-0.0056997 -0.0045023 -0.03171"
        rpy="0 0 0" />
      <mass
        value="1.6034" />
      <inertia
        ixx="0.004377"
        ixy="3.6E-05"
        ixz="-0.00054"
        iyy="0.004463"
        iyz="0.000215"
        izz="0.001464" />
    </inertial>
    <visual>
      <origin
        xyz="0 0 0"
        rpy="0 0 0" />
      <geometry>
        <mesh
          filename="meshes/left_elbow_pitch_link.STL" />
      </geometry>
      <material
        name="">
        <color
          rgba="0.75294 0.75294 0.75294 1" />
      </material>
    </visual>
    <collision>
      <origin
        xyz="0 0 0"
        rpy="0 0 0" />
      <geometry>
        <mesh
          filename="meshes/left_elbow_pitch_link.STL" />
      </geometry>
    </collision>
  </link>
  <joint
    name="left_elbow_pitch_joint"
    type="revolute">
    <origin
      xyz="0.016 0 -0.294"
      rpy="0 0 0" />
    <parent
      link="left_arm_yaw_link" />
    <child
      link="left_elbow_pitch_link" />
    <axis
      xyz="0 1 0" />
    <limit
      lower="-2.36"
      upper="0.7"
      effort="95"
      velocity="4.19" />
  </joint>
  <link
    name="left_elbow_yaw_link">
    <inertial>
      <origin
        xyz="-0.0006503 -0.0023824 0.067809"
        rpy="0 0 0" />
      <mass
        value="0.91938" />
      <inertia
        ixx="0.001459"
        ixy="-1.3E-05"
        ixz="-3E-05"
        iyy="0.001214"
        iyz="8E-06"
        izz="0.00085" />
    </inertial>
    <visual>
      <origin
        xyz="0 0 0"
        rpy="0 0 0" />
      <geometry>
        <mesh
          filename="meshes/left_elbow_yaw_link.STL" />
      </geometry>
      <material
        name="">
        <color
          rgba="0.75294 0.75294 0.75294 1" />
      </material>
    </visual>
    <collision>
      <origin
        xyz="0 0 0"
        rpy="0 0 0" />
      <geometry>
        <mesh
          filename="meshes/left_elbow_yaw_link.STL" />
      </geometry>
    </collision>
  </link>
  <joint
    name="left_elbow_yaw_joint"
    type="revolute">
    <origin
      xyz="-0.016 0 -0.239"
      rpy="0 0 0" />
    <parent
      link="left_elbow_pitch_link" />
    <child
      link="left_elbow_yaw_link" />
    <axis
      xyz="0 0 1" />
    <limit
      lower="-2.79"
      upper="2.79"
      effort="35"
      velocity="4.19" />
  </joint>
  <link
    name="left_wrist_pitch_link">
    <inertial>
      <origin
        xyz="0.0064749 -0.00014717 0.00023213"
        rpy="0 0 0" />
      <mass
        value="0.59056" />
      <inertia
        ixx="0.00033"
        ixy="-2E-06"
        ixz="3E-06"
        iyy="0.000318"
        iyz="-2E-06"
        izz="0.000334" />
    </inertial>
    <visual>
      <origin
        xyz="0 0 0"
        rpy="0 0 0" />
      <geometry>
        <mesh
          filename="meshes/left_wrist_pitch_link.STL" />
      </geometry>
      <material
        name="">
        <color
          rgba="0.75294 0.75294 0.75294 1" />
      </material>
    </visual>
    <!-- <collision>
      <origin
        xyz="0 0 0"
        rpy="0 0 0" />
      <geometry>
        <mesh
          filename="meshes/left_wrist_pitch_link.STL" />
      </geometry>
    </collision> -->
  </link>
  <joint
    name="left_wrist_pitch_joint"
    type="revolute">
    <origin
      xyz="0 0 0"
      rpy="0 0 0" />
    <parent
      link="left_elbow_yaw_link" />
    <child
      link="left_wrist_pitch_link" />
    <axis
      xyz="0 1 0" />
    <limit
      lower="-0.79"
      upper="0.79"
      effort="35"
      velocity="4.19" />
  </joint>
  <link
    name="left_wrist_roll_link">
    <inertial>
      <origin
        xyz="0.015728 8.3393E-10 -0.030005"
        rpy="0 0 0" />
      <mass
        value="0.091311" />
      <inertia
        ixx="6.9E-05"
        ixy="9.3969E-12"
        ixz="-3.1E-05"
        iyy="8.9E-05"
        iyz="3.3842E-13"
        izz="5.2E-05" />
    </inertial>
    <visual>
      <origin
        xyz="0 0 0"
        rpy="0 0 0" />
      <geometry>
        <mesh
          filename="meshes/left_wrist_roll_link.STL" />
      </geometry>
      <material
        name="">
        <color
          rgba="0.75294 0.75294 0.75294 1" />
      </material>
    </visual>
    <!-- <collision>
      <origin
        xyz="0 0 0"
        rpy="0 0 0" />
      <geometry>
        <mesh
          filename="meshes/left_wrist_roll_link.STL" />
      </geometry>
    </collision> -->
    <collision>
      <origin xyz="0.0 0.0 -0.062" rpy="0 0.0 0"/>
      <geometry>
        <cylinder radius="0.025" length="0.015"/>
      </geometry>
    </collision>



  </link>
  <joint
    name="left_wrist_roll_joint"
    type="revolute">
    <origin
      xyz="0 0 0"
      rpy="0 0 0" />
    <parent
      link="left_wrist_pitch_link" />
    <child
      link="left_wrist_roll_link" />
    <axis
      xyz="1 0 0" />
    <limit
      lower="-1.57"
      upper="1.57"
      effort="35"
      velocity="4.19" />
  </joint>
  <link
    name="left_hand_flange_link">
    <inertial>
      <origin
        xyz="0 0 0.0025"
        rpy="0 0 0" />
      <mass
        value="0.000000001" />
      <inertia
        ixx="0.00000000001"
        ixy="0.0000000000"
        ixz="0.0000000000"
        iyy="0.00000000001"
        iyz="0.0000000000"
        izz="0.00000000001" />
    </inertial>
    <visual>
      <origin
        xyz="0 0 0"
        rpy="0 0 0" />
      <geometry>
        <mesh
          filename="meshes/left_hand_flange_link.STL" />
      </geometry>
      <material
        name="">
        <color
          rgba="1 0.54902 0 1" />
      </material>
    </visual>
    <!-- <collision>
      <origin
        xyz="0 0 0"
        rpy="0 0 0" />
      <geometry>
        <mesh
          filename="meshes/left_hand_flange_link.STL" />
      </geometry>
    </collision> -->
  </link>
  <joint
    name="left_hand_flange_joint"
    type="fixed">
    <origin
      xyz="0 0 -0.051"
      rpy="3.1415926 0 0" />
    <parent
      link="left_wrist_roll_link" />
    <child
      link="left_hand_flange_link" />
    <axis
      xyz="0 0 0" />
  </joint>


  <!--   head part    -->
  <joint
    name="neck_base_joint"
    type="fixed">
    <origin
      xyz="0 0 0"
      rpy="0 0 0" />
    <parent
      link="neck_flange_link" />
    <child
      link="neck_base_link" />
    <axis
      xyz="0 0 1" />
    <limit
      lower="0"
      upper="0"
      effort="0"
      velocity="0" />
  </joint>
 <link
    name="neck_base_link">
    <inertial>
      <origin
        xyz="0.00044058 -3.1316E-05 0.020437"
        rpy="0 0 0" />
      <mass
        value="0.54879" />
      <inertia
        ixx="0.000336"
        ixy="1E-06"
        ixz="-1E-06"
        iyy="0.000311"
        iyz="2.377E-07"
        izz="0.000379" />
    </inertial>
    <visual>
      <origin
        xyz="0 0 0"
        rpy="0 0 0" />
      <geometry>
        <mesh
          filename="meshes/neck_base_link.STL" />
      </geometry>
      <material
        name="">
        <color
          rgba="0.75294 0.75294 0.75294 1" />
      </material>
    </visual>
    <!-- <collision>
      <origin
        xyz="0 0 0"
        rpy="0 0 0" />
      <geometry>
        <mesh
          filename="meshes/neck_base_link.STL" />
      </geometry>
    </collision> -->
  </link>
  <link
    name="neck_yaw_link">
    <inertial>
      <origin
        xyz="0.033363 0.00038788 0.085731"
        rpy="0 0 0" />
      <mass
        value="0.57738" />
      <inertia
        ixx="0.000363"
        ixy="1E-06"
        ixz="-9E-05"
        iyy="0.000478"
        iyz="1E-06"
        izz="0.000427" />
    </inertial>
    <visual>
      <origin
        xyz="0 0 0"
        rpy="0 0 0" />
      <geometry>
        <mesh
          filename="meshes/neck_yaw_link.STL" />
      </geometry>
      <material
        name="">
        <color
          rgba="0.75294 0.75294 0.75294 1" />
      </material>
    </visual>
    <!-- <collision>
      <origin
        xyz="0 0 0"
        rpy="0 0 0" />
      <geometry>
        <mesh
          filename="meshes/neck_yaw_link.STL" />
      </geometry>
    </collision> -->
  </link>
  <joint
    name="neck_yaw_joint"
    type="fixed">
    <origin
      xyz="0 0 0"
      rpy="0 0 0" />
    <parent
      link="neck_base_link" />
    <child
      link="neck_yaw_link" />
    <axis
      xyz="0 0 1" />
    <limit
      lower="-1.05"
      upper="1.05"
      effort="35"
      velocity="4.19" />
  </joint>
  <link
    name="neck_pitch_link">
    <inertial>
      <origin
        xyz="-0.018182 0.00091372 0.11159"
        rpy="0 0 0" />
      <mass
        value="1.4643" />
      <inertia
        ixx="0.006914"
        ixy="-2.8E-05"
        ixz="0.001054"
        iyy="0.007955"
        iyz="0.000133"
        izz="0.005899" />
    </inertial>
    <visual>
      <origin
        xyz="0 0 0"
        rpy="0 0 0" />
      <geometry>
        <mesh
          filename="meshes/neck_pitch_link.STL" />
      </geometry>
      <material
        name="">
        <color
          rgba="0.75294 0.75294 0.75294 1" />
      </material>
    </visual>
    <collision>
      <origin
        xyz="0 0 0"
        rpy="0 0 0" />
      <geometry>
        <mesh
          filename="meshes/neck_pitch_link.STL" />
      </geometry>
    </collision>
  </link>
  <joint
    name="neck_pitch_joint"
    type="fixed">
    <origin
      xyz="0.04 0 0.0905"
      rpy="0 0 0" />
    <parent
      link="neck_yaw_link" />
    <child
      link="neck_pitch_link" />
    <axis
      xyz="0 1 0" />
    <limit
      lower="-0.17"
      upper="0.48"
      effort="35"
      velocity="4.19" />
  </joint>
  <link
    name="lidar_link">
    <inertial>
      <origin
        xyz="3.4694E-18 -6.9344E-18 0.0025"
        rpy="0 0 0" />
      <mass
        value="1.375E-08" />
      <inertia
        ixx="5.7292E-14"
        ixy="9.2152E-31"
        ixz="2.068E-29"
        iyy="5.7292E-14"
        iyz="5.8797E-30"
        izz="5.7292E-14" />
    </inertial>
    <visual>
      <origin
        xyz="0 0 0"
        rpy="0 0 0" />
      <geometry>
        <mesh
          filename="meshes/lidar_link.STL" />
      </geometry>
      <material
        name="">
        <color
          rgba="1 0.54902 0 1" />
      </material>
    </visual>
    <!-- <collision>
      <origin
        xyz="0 0 0"
        rpy="0 0 0" />
      <geometry>
        <mesh
          filename="meshes/lidar_link.STL" />
      </geometry>
    </collision> -->
  </link>
  <joint
    name="lidar_joint"
    type="fixed">
    <origin
      xyz="-0.014255 0 0.10675"
      rpy="0 0 0" />
    <parent
      link="neck_pitch_link" />
    <child
      link="lidar_link" />
    <axis
      xyz="0 0 0" />
  </joint>
  <link
    name="mic_link">
    <inertial>
      <origin
        xyz="6.9389E-18 -1.1928E-20 0.0025"
        rpy="0 0 0" />
      <mass
        value="1.375E-08" />
      <inertia
        ixx="5.7292E-14"
        ixy="8.366E-31"
        ixz="5.1463E-30"
        iyy="5.7292E-14"
        iyz="3.6879E-30"
        izz="5.7292E-14" />
    </inertial>
    <visual>
      <origin
        xyz="0 0 0"
        rpy="0 0 0" />
      <geometry>
        <mesh
          filename="meshes/mic_link.STL" />
      </geometry>
      <material
        name="">
        <color
          rgba="1 0.54902 0 1" />
      </material>
    </visual>
    <!-- <collision>
      <origin
        xyz="0 0 0"
        rpy="0 0 0" />
      <geometry>
        <mesh
          filename="meshes/mic_link.STL" />
      </geometry>
    </collision> -->
  </link>
  <joint
    name="mic_joint"
    type="fixed">
    <origin
      xyz="-0.014255 0 0.18884"
      rpy="0 0 0" />
    <parent
      link="neck_pitch_link" />
    <child
      link="mic_link" />
    <axis
      xyz="0 0 0" />
  </joint>
  <link
    name="stereo_link">
    <inertial>
      <origin
        xyz="1.3878E-17 -3.5421E-18 0.0025"
        rpy="0 0 0" />
      <mass
        value="1.375E-08" />
      <inertia
        ixx="5.7292E-14"
        ixy="-1.9198E-30"
        ixz="6.3109E-29"
        iyy="5.7292E-14"
        iyz="2.5778E-31"
        izz="5.7292E-14" />
    </inertial>
    <visual>
      <origin
        xyz="0 0 0"
        rpy="0 0 0" />
      <geometry>
        <mesh
          filename="meshes/stereo_link.STL" />
      </geometry>
      <material
        name="">
        <color
          rgba="1 0.54902 0 1" />
      </material>
    </visual>
    <!-- <collision>
      <origin
        xyz="0 0 0"
        rpy="0 0 0" />
      <geometry>
        <mesh
          filename="meshes/stereo_link.STL" />
      </geometry>
    </collision> -->
  </link>
  <joint
    name="stereo_joint"
    type="fixed">
    <origin
      xyz="0.059712 0 0.13282"
      rpy="0 0.5236 0" />
    <parent
      link="neck_pitch_link" />
    <child
      link="stereo_link" />
    <axis
      xyz="0 0 0" />
  </joint>









 
 <!--  right_arm part    -->
  <joint
    name="right_arm_base_joint"
    type="fixed">
    <origin
      xyz="0 0 0"
      rpy="0 0 0" />
    <parent
      link="right_arm_flange_link" />
    <child
      link="right_arm_base_link" />
    <axis
      xyz="0 0 1" />
    <limit
      lower="0"
      upper="0"
      effort="0"
      velocity="0" />
  </joint>
    <link
    name="right_arm_base_link">
    <inertial>
      <origin
        xyz="-4.1581E-05 -0.023631 3.5535E-05"
        rpy="0 0 0" />
      <mass
        value="0.99112" />
      <inertia
        ixx="0.000802"
        ixy="1E-06"
        ixz="1E-06"
        iyy="0.000861"
        iyz="3E-06"
        izz="0.000807" />
    </inertial>
    <visual>
      <origin
        xyz="0 0 0"
        rpy="0 0 0" />
      <geometry>
        <mesh
          filename="meshes/right_arm_base_link.STL" />
      </geometry>
      <material
        name="">
        <color
          rgba="0.75294 0.75294 0.75294 1" />
      </material>
    </visual>
    <!-- <collision>
      <origin
        xyz="0 0 0"
        rpy="0 0 0" />
      <geometry>
        <mesh
          filename="meshes/right_arm_base_link.STL" />
      </geometry>
    </collision> -->
  </link>
  <link
    name="right_shoulder_pitch_link">
    <inertial>
      <origin
        xyz="-0.00013365 -0.10261 -0.0035426"
        rpy="0 0 0" />
      <mass
        value="0.46431" />
      <inertia
        ixx="0.000868"
        ixy="7.2509E-07"
        ixz="7.5292E-07"
        iyy="0.000876"
        iyz="-0.000137"
        izz="0.001185" />
    </inertial>
    <visual>
      <origin
        xyz="0 0 0"
        rpy="0 0 0" />
      <geometry>
        <mesh
          filename="meshes/right_shoulder_pitch_link.STL" />
      </geometry>
      <material
        name="">
        <color
          rgba="0.75294 0.75294 0.75294 1" />
      </material>
    </visual>
    <collision>
      <origin
        xyz="0 0 0"
        rpy="0 0 0" />
      <geometry>
        <mesh
          filename="meshes/right_shoulder_pitch_link.STL" />
      </geometry>
    </collision>
  </link>
  <joint
    name="right_shoulder_pitch_joint"
    type="revolute">
    <origin
      xyz="0 0 0"
      rpy="0 0 0" />
    <parent
      link="right_arm_base_link" />
    <child
      link="right_shoulder_pitch_link" />
    <axis
      xyz="0 1 0" />
    <limit
      lower="-2.79"
      upper="2.79"
      effort="95"
      velocity="4.19" />
  </joint>
  <link
    name="right_shoulder_roll_link">
    <inertial>
      <origin
        xyz="0.0032462 -4.0571E-06 -0.091652"
        rpy="0 0 0" />
      <mass
        value="2.1944" />
      <inertia
        ixx="0.019872"
        ixy="-7.0549E-07"
        ixz="-0.000639"
        iyy="0.019903"
        iyz="-7E-06"
        izz="0.00221" />
    </inertial>
    <visual>
      <origin
        xyz="0 0 0"
        rpy="0 0 0" />
      <geometry>
        <mesh
          filename="meshes/right_shoulder_roll_link.STL" />
      </geometry>
      <material
        name="">
        <color
          rgba="0.75294 0.75294 0.75294 1" />
      </material>
    </visual>
    <!-- <collision>
      <origin
        xyz="0 0 0"
        rpy="0 0 0" />
      <geometry>
        <mesh
          filename="meshes/right_shoulder_roll_link.STL" />
      </geometry>
    </collision> -->
    <collision>
      <origin xyz="0.0 0.0 -0.13" rpy="0 0 0"/>
      <geometry>
        <cylinder radius="0.045" length="0.13"/>
      </geometry>
    </collision>
  </link>
  <joint
    name="right_shoulder_roll_joint"
    type="revolute">
    <origin
      xyz="0 -0.133 -0.016"
      rpy="0 0 0" />
    <parent
      link="right_shoulder_pitch_link" />
    <child
      link="right_shoulder_roll_link" />
    <axis
      xyz="1 0 0" />
    <limit
      lower="-2.53"
      upper="0.56"
      effort="95"
      velocity="4.19" />
  </joint>
  <link
    name="right_arm_yaw_link">
    <inertial>
      <origin
        xyz="0.003519 0.00031494 -0.26353"
        rpy="0 0 0" />
      <mass
        value="0.46223" />
      <inertia
        ixx="0.00118"
        ixy="-1E-06"
        ixz="0.000136"
        iyy="0.000868"
        iyz="-7.2693E-07"
        izz="0.000873" />
    </inertial>
    <visual>
      <origin
        xyz="0 0 0"
        rpy="0 0 0" />
      <geometry>
        <mesh
          filename="meshes/right_arm_yaw_link.STL" />
      </geometry>
      <material
        name="">
        <color
          rgba="0.75294 0.75294 0.75294 1" />
      </material>
    </visual>
    <!-- <collision>
      <origin
        xyz="0 0 0"
        rpy="0 0 0" />
      <geometry>
        <mesh
          filename="meshes/right_arm_yaw_link.STL" />
      </geometry>
    </collision> -->
  </link>
  <joint
    name="right_arm_yaw_joint"
    type="revolute">
    <origin
      xyz="0 0 0"
      rpy="0 0 0" />
    <parent
      link="right_shoulder_roll_link" />
    <child
      link="right_arm_yaw_link" />
    <axis
      xyz="0 0 1" />
    <limit
      lower="-1.22"
      upper="4.36"
      effort="95"
      velocity="4.19" />
  </joint>
  <link
    name="right_elbow_pitch_link">
    <inertial>
      <origin
        xyz="-0.0056997 -0.0045023 -0.03171"
        rpy="0 0 0" />
      <mass
        value="1.6034" />
      <inertia
        ixx="0.004377"
        ixy="3.6E-05"
        ixz="-0.00054"
        iyy="0.004463"
        iyz="0.000215"
        izz="0.001464" />
    </inertial>
    <visual>
      <origin
        xyz="0 0 0"
        rpy="0 0 0" />
      <geometry>
        <mesh
          filename="meshes/right_elbow_pitch_link.STL" />
      </geometry>
      <material
        name="">
        <color
          rgba="0.75294 0.75294 0.75294 1" />
      </material>
    </visual>
    <collision>
      <origin
        xyz="0 0 0"
        rpy="0 0 0" />
      <geometry>
        <mesh
          filename="meshes/right_elbow_pitch_link.STL" />
      </geometry>
    </collision>
  </link>
  <joint
    name="right_elbow_pitch_joint"
    type="revolute">
    <origin
      xyz="0.016 0 -0.294"
      rpy="0 0 0" />
    <parent
      link="right_arm_yaw_link" />
    <child
      link="right_elbow_pitch_link" />
    <axis
      xyz="0 1 0" />
    <limit
      lower="-2.36"
      upper="0.7"
      effort="95"
      velocity="4.19" />
  </joint>
  <link
    name="right_elbow_yaw_link">
    <inertial>
      <origin
        xyz="-0.0006503 -0.0023824 0.067809"
        rpy="0 0 0" />
      <mass
        value="0.91938" />
      <inertia
        ixx="0.001459"
        ixy="-1.3E-05"
        ixz="-3E-05"
        iyy="0.001214"
        iyz="8E-06"
        izz="0.00085" />
    </inertial>
    <visual>
      <origin
        xyz="0 0 0"
        rpy="0 0 0" />
      <geometry>
        <mesh
          filename="meshes/right_elbow_yaw_link.STL" />
      </geometry>
      <material
        name="">
        <color
          rgba="0.75294 0.75294 0.75294 1" />
      </material>
    </visual>
    <collision>
      <origin
        xyz="0 0 0"
        rpy="0 0 0" />
      <geometry>
        <mesh
          filename="meshes/right_elbow_yaw_link.STL" />
      </geometry>
    </collision>
  </link>
  <joint
    name="right_elbow_yaw_joint"
    type="revolute">
    <origin
      xyz="-0.016 0 -0.239"
      rpy="0 0 0" />
    <parent
      link="right_elbow_pitch_link" />
    <child
      link="right_elbow_yaw_link" />
    <axis
      xyz="0 0 1" />
    <limit
      lower="-2.79"
      upper="2.79"
      effort="35"
      velocity="4.19" />
  </joint>
  <link
    name="right_wrist_pitch_link">
    <inertial>
      <origin
        xyz="0.0064749 -0.00014717 0.00023213"
        rpy="0 0 0" />
      <mass
        value="0.59056" />
      <inertia
        ixx="0.00033"
        ixy="-2E-06"
        ixz="3E-06"
        iyy="0.000318"
        iyz="-2E-06"
        izz="0.000334" />
    </inertial>
    <visual>
      <origin
        xyz="0 0 0"
        rpy="0 0 0" />
      <geometry>
        <mesh
          filename="meshes/right_wrist_pitch_link.STL" />
      </geometry>
      <material
        name="">
        <color
          rgba="0.75294 0.75294 0.75294 1" />
      </material>
    </visual>
    <!-- <collision>
      <origin
        xyz="0 0 0"
        rpy="0 0 0" />
      <geometry>
        <mesh
          filename="meshes/right_wrist_pitch_link.STL" />
      </geometry>
    </collision> -->
  </link>
  <joint
    name="right_wrist_pitch_joint"
    type="revolute">
    <origin
      xyz="0 0 0"
      rpy="0 0 0" />
    <parent
      link="right_elbow_yaw_link" />
    <child
      link="right_wrist_pitch_link" />
    <axis
      xyz="0 1 0" />
    <limit
      lower="-0.79"
      upper="0.79"
      effort="35"
      velocity="4.19" />
  </joint>
  <link
    name="right_wrist_roll_link">
    <inertial>
      <origin
        xyz="0.015728 8.3393E-10 -0.030005"
        rpy="0 0 0" />
      <mass
        value="0.091311" />
      <inertia
        ixx="6.9E-05"
        ixy="9.3969E-12"
        ixz="-3.1E-05"
        iyy="8.9E-05"
        iyz="3.3842E-13"
        izz="5.2E-05" />
    </inertial>
    <visual>
      <origin
        xyz="0 0 0"
        rpy="0 0 0" />
      <geometry>
        <mesh
          filename="meshes/right_wrist_roll_link.STL" />
      </geometry>
      <material
        name="">
        <color
          rgba="0.75294 0.75294 0.75294 1" />
      </material>
    </visual>
    <!-- <collision>
      <origin
        xyz="0 0 0"
        rpy="0 0 0" />
      <geometry>
        <mesh
          filename="meshes/right_wrist_roll_link.STL" />
      </geometry>
    </collision> -->
    <collision>
      <origin xyz="0.0 0.0 -0.062" rpy="0 0.0 0"/>
      <geometry>
        <cylinder radius="0.025" length="0.015"/>
      </geometry>
    </collision>


  </link>
  <joint
    name="right_wrist_roll_joint"
    type="revolute">
    <origin
      xyz="0 0 0"
      rpy="0 0 0" />
    <parent
      link="right_wrist_pitch_link" />
    <child
      link="right_wrist_roll_link" />
    <axis
      xyz="1 0 0" />
    <limit
      lower="-1.57"
      upper="1.57"
      effort="35"
      velocity="4.19" />
  </joint>
  <link
    name="right_hand_flange_link">
    <inertial>
      <origin
        xyz="0 0 0.0025"
        rpy="0 0 0" />
      <mass
        value="0.000000001" />
      <inertia
        ixx="0.00000000001"
        ixy="0.0000000000"
        ixz="0.0000000000"
        iyy="0.00000000001"
        iyz="0.0000000000"
        izz="0.00000000001" />
    </inertial>
    <visual>
      <origin
        xyz="0 0 0"
        rpy="0 0 0" />
      <geometry>
        <mesh
          filename="meshes/right_hand_flange_link.STL" />
      </geometry>
      <material
        name="">
        <color
          rgba="1 0.54902 0 1" />
      </material>
    </visual>
    <!-- <collision>
      <origin
        xyz="0 0 0"
        rpy="0 0 0" />
      <geometry>
        <mesh
          filename="meshes/right_hand_flange_link.STL" />
      </geometry>
    </collision> -->
  </link>
  <joint
    name="right_hand_flange_joint"
    type="fixed">
    <origin
      xyz="0 0 -0.051"
      rpy="3.1415926 0 0" />
    <parent
      link="right_wrist_roll_link" />
    <child
      link="right_hand_flange_link" />
    <axis
      xyz="0 0 0" />
  </joint>
</robot>
